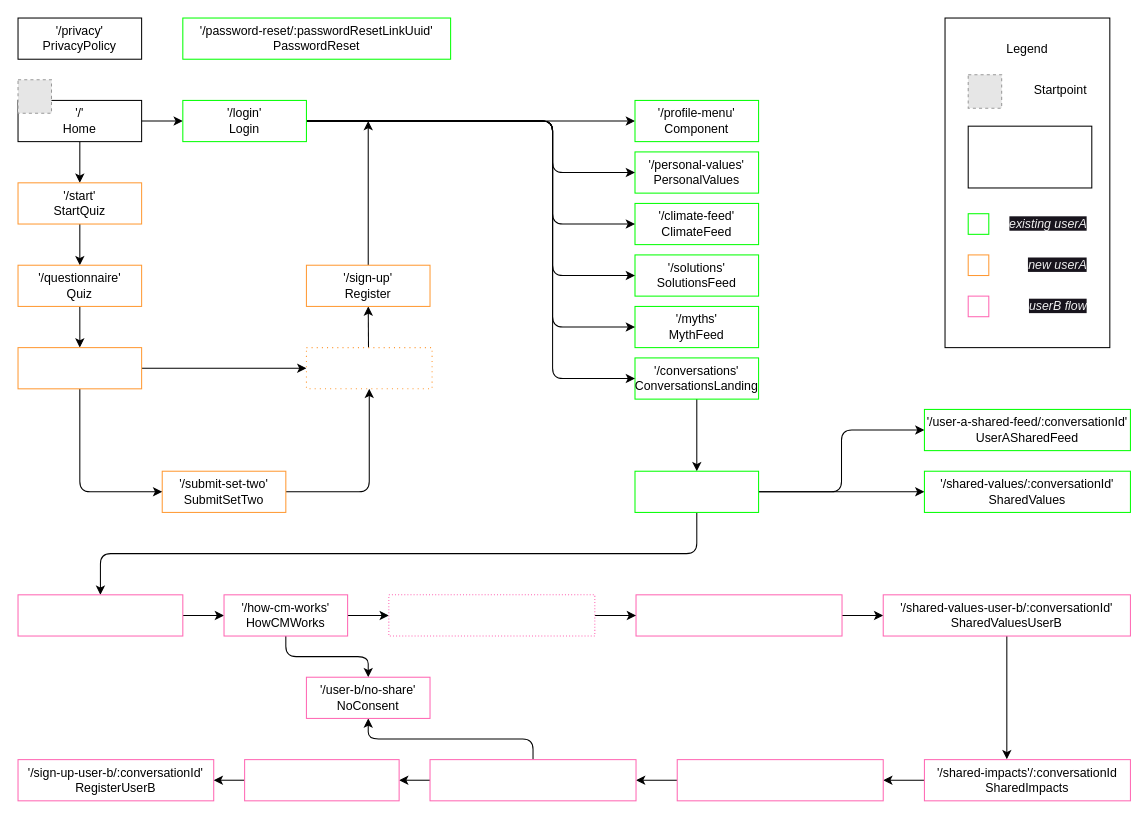
Image size: 1148x819. Some labels were removed from this diagram. Grey dashed boxes stand in for pictures. The shapes that lost their labels are listed below. From the top down, each one's centre as x and y in pixels, then its label:
point 1029,156: ' Route ' Component
point 79,368: '/submit' SubmitSetOne
point 368,368: '/set-location' GetZipCode
point 696,491: '/sharelink' ShareLink
point 100,615: '/landing/:conversationId' UserBLanding
point 491,615: '/questionnaire/:conversationId?' Quiz
point 738,615: '/core-values/:conversationId' CoreValues
point 321,780: '/shared/:conversationId' Shared
point 532,780: '/shared-summary/:conversationId' ShareSummary
point 779,780: '/shared-solutions/:conversationId' SharedSolutions
